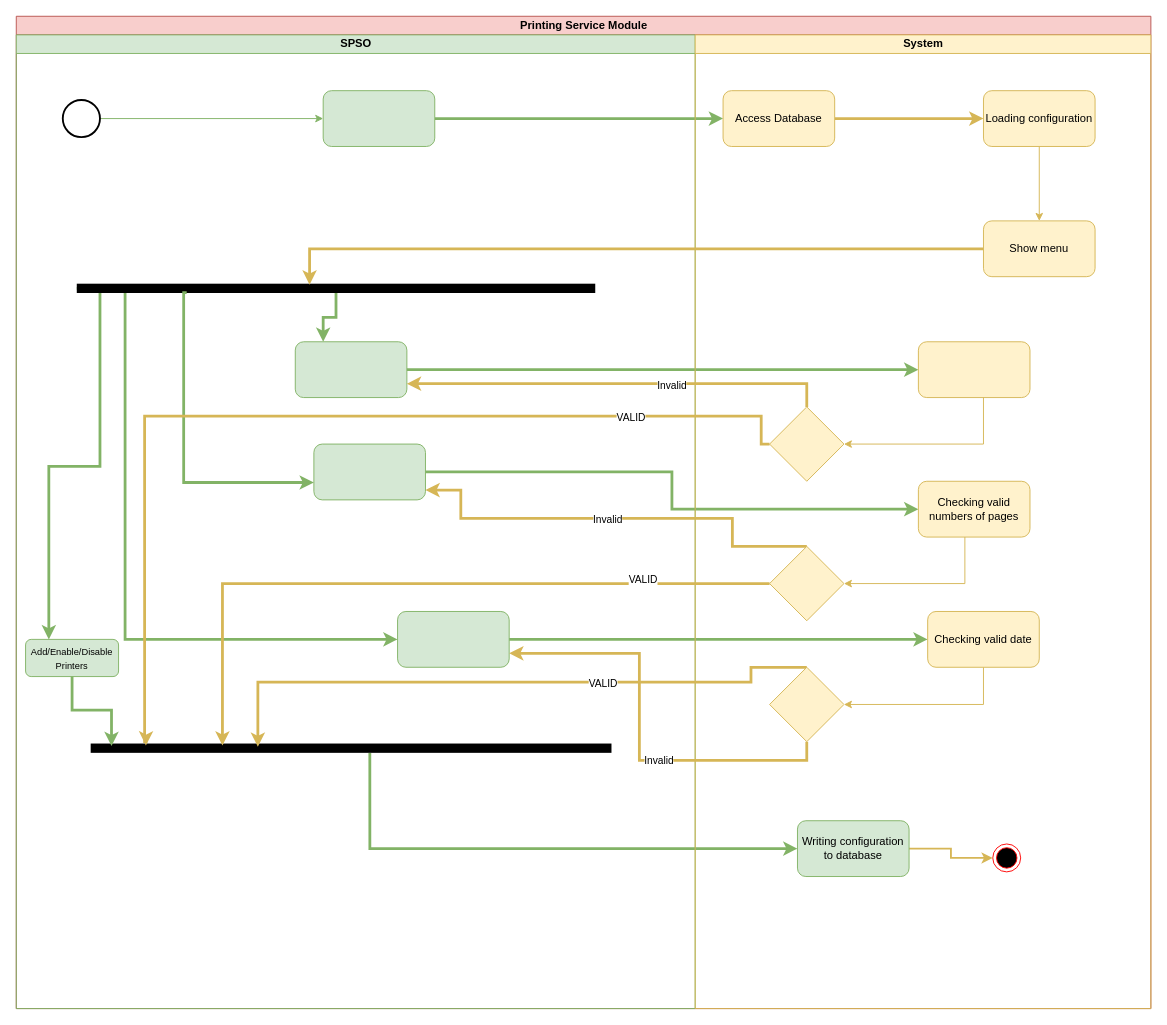
The diagram is 1167 pixels wide and 1025 high, and some of its shapes have lost their labels. Here are the shapes that lost their labels. From the top down, the box of each, then its label:
(322, 90, 435, 146): Clicking printer configuration
(294, 341, 407, 398): Change the permitted file type
(917, 341, 1030, 398): Checking valid file types
(313, 443, 425, 500): Change the number of pages
(397, 611, 509, 667): Changing the effective date
